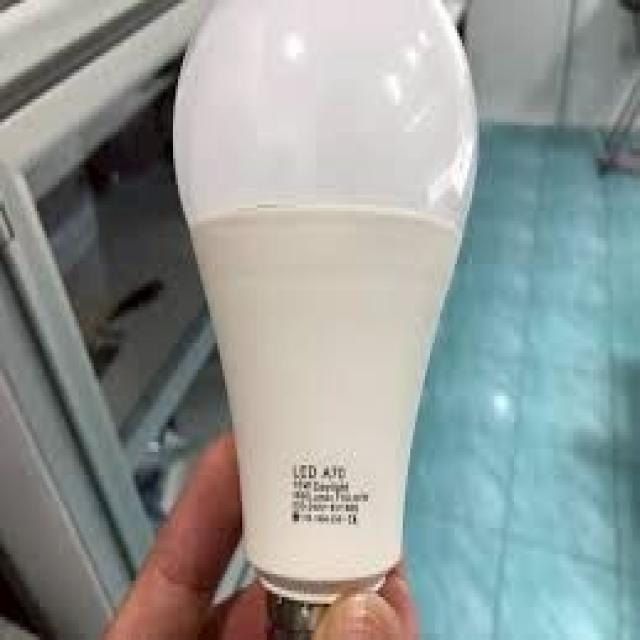bulb: (165, 0, 479, 610)
